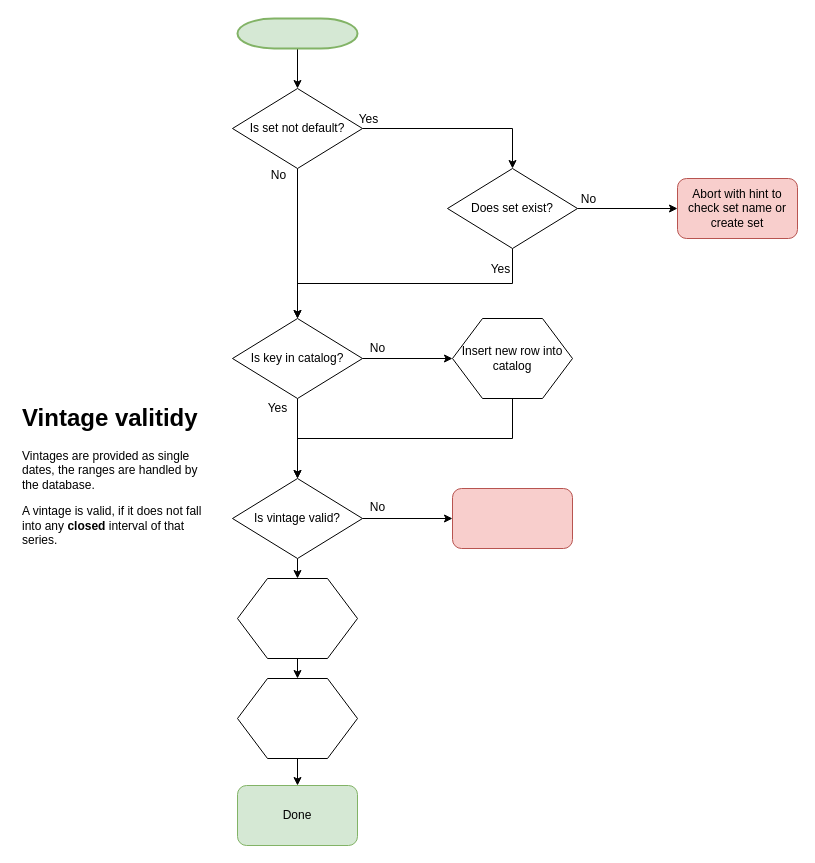
The diagram is 815 pixels wide and 863 high, and some of its shapes have lost their labels. The centre of each missing label's shape, as x and y in pixels:
"Abort with hint" belongs at point (512, 518).
"Close pervious vintage with [old_start, vintage)" belongs at point (297, 618).
"Insert new row with [vintage, )" belongs at point (297, 718).
"start" belongs at point (297, 33).
